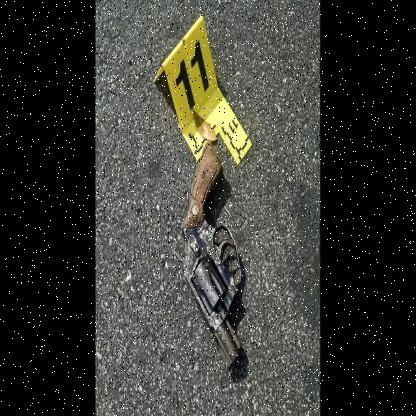pistol: (170, 140, 255, 376)
